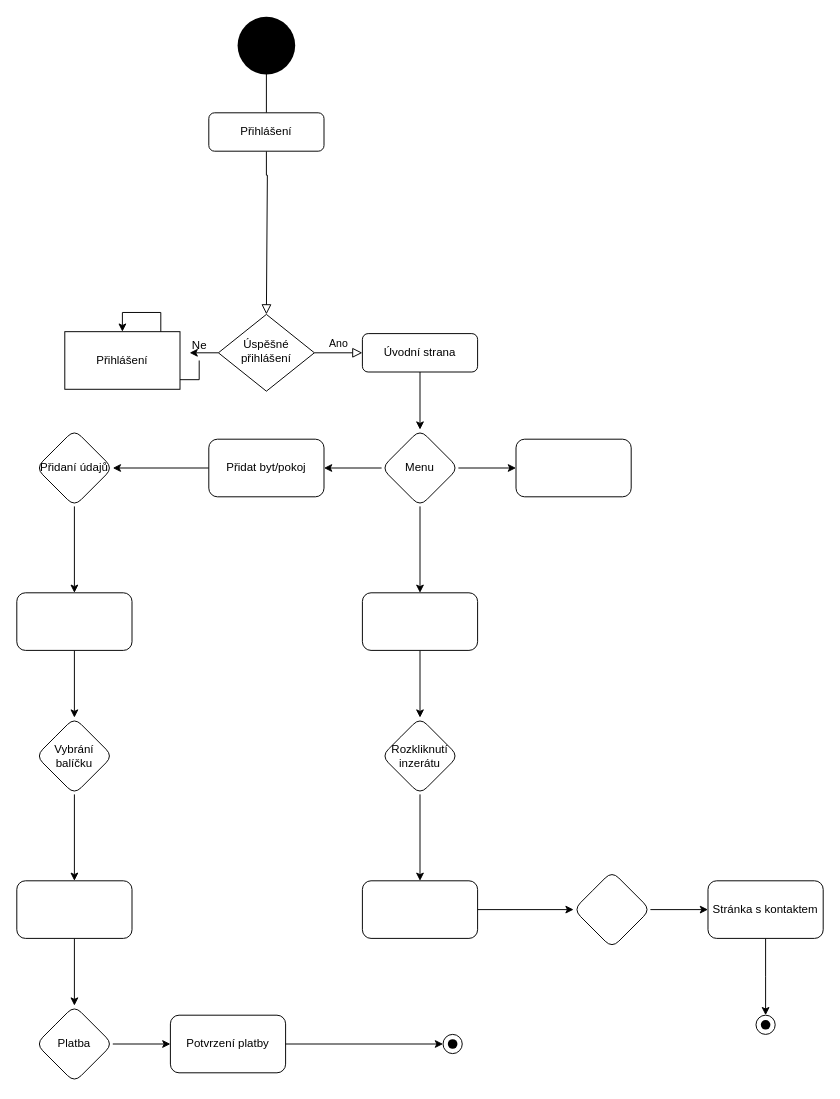
Image size: 840x1099. Some labels were removed from this diagram. The shapes that lost their labels are listed below. From the top down, each one's centre as x and y in pixels, then its label:
At (573,467): "O nás".
At (74,621): "Stránka s balíčky".
At (419,621): "Nabídka bytů/pokojů".
At (74,909): "Stránka s platbou".
At (419,909): "Stránka inzerátu".
At (611,909): "Kliknutí na tlačítko kontaktu".
